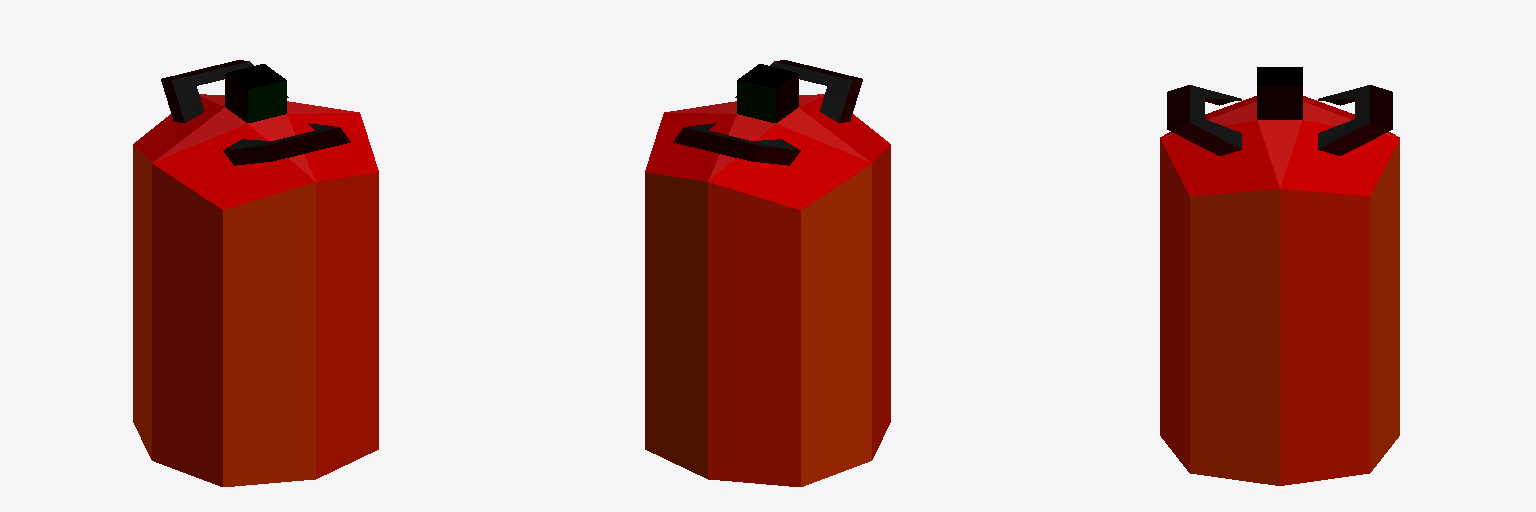
The model's file is butano_house.obj.
3 renders of one model, left to right at view 1: azimuth 30°, elevation 25°; view 2: azimuth 150°, elevation 25°; view 3: azimuth 270°, elevation 25°, orthographic.
Visible parts, largest first — view 1: Cube.003; view 2: Cube.003; view 3: Cube.003.
Part boxes in pixels (bbox=[...]): Cube.003: bbox=[133, 60, 378, 486]; Cube.003: bbox=[645, 60, 890, 486]; Cube.003: bbox=[1160, 67, 1399, 485].
Bounding box in the file's own units: 48 × 79 × 48.